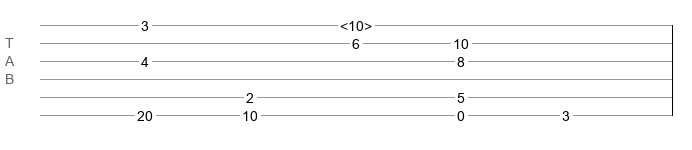0: (457, 108, 465, 118)
10: (242, 108, 258, 118), (453, 36, 469, 46)
2: (246, 90, 254, 100)
20: (137, 108, 153, 118)
3: (141, 18, 149, 28), (562, 108, 570, 118)
4: (141, 54, 149, 64)
5: (457, 90, 465, 100)
6: (352, 36, 360, 46)
8: (457, 54, 465, 64)
harmonic: (340, 18, 372, 28)
